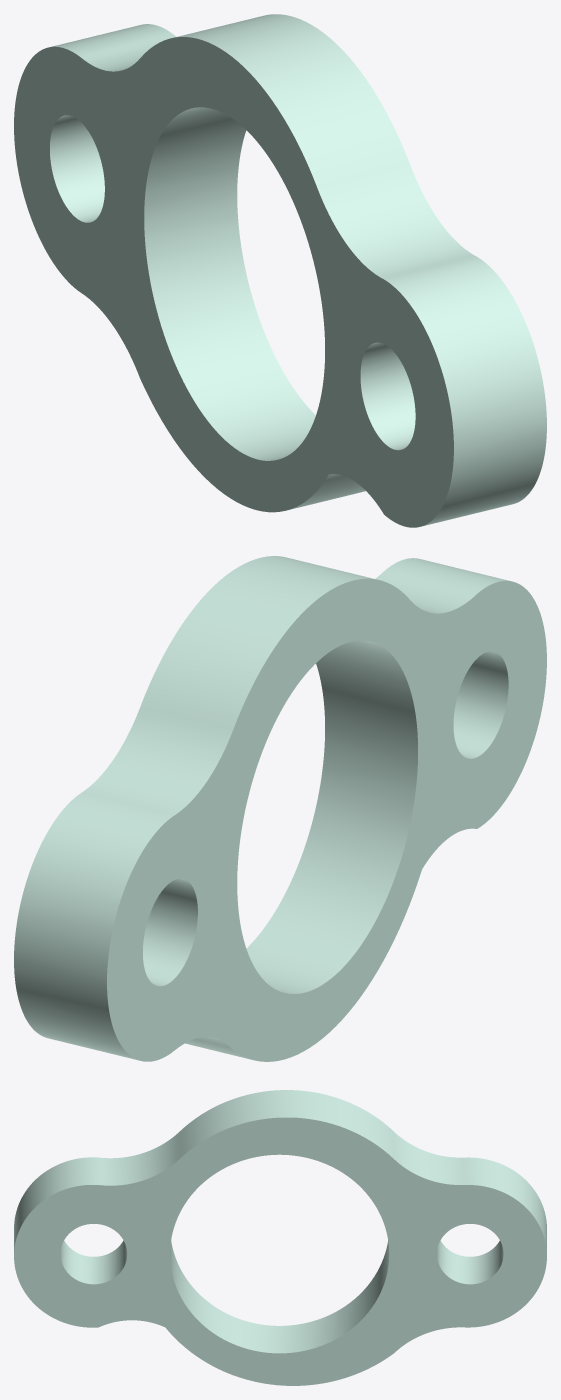
3 views of the same model, one above another, from view 1: azimuth 30°, elevation 25°; view 2: azimuth 150°, elevation 25°; view 3: azimuth 270°, elevation 25° (orthographic). The views are drawn at different scales.
Visible parts, largest first — view 1: Renderer Node; view 2: Renderer Node; view 3: Renderer Node.
Boxes of the visible parts, x1,y1,x2,y2 form: Renderer Node: (14,14,546,527); Renderer Node: (14,556,546,1061); Renderer Node: (14,1090,546,1385).
Bounding box in the file's own units: 0.1797 × 0.8182 × 1.47.
